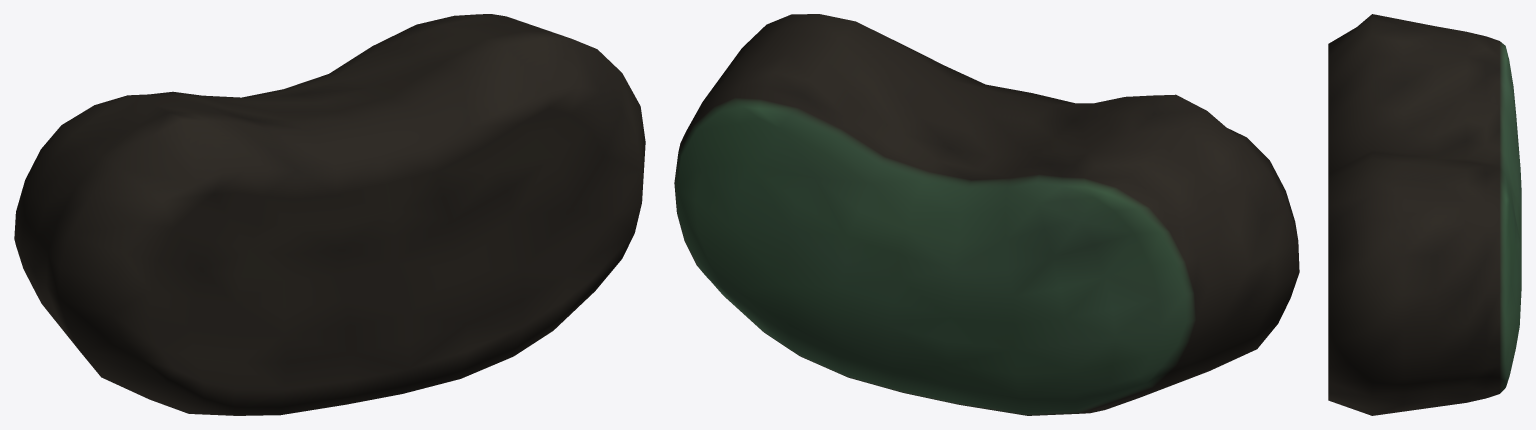
Rendered from GreenHillMedium.005.glb.
The picture shows the model from 3 angles, left to right: view 1: azimuth 30°, elevation 25°; view 2: azimuth 150°, elevation 25°; view 3: azimuth 270°, elevation 25°; orthographic projection. The views are drawn at different scales.
Visible parts, largest first — view 1: GreenHillMedium.005; view 2: GreenHillMedium.005; view 3: GreenHillMedium.005.
Boxes of the visible parts, x1=… form: GreenHillMedium.005: x1=14, y1=14, x2=645, y2=415; GreenHillMedium.005: x1=674, y1=14, x2=1299, y2=415; GreenHillMedium.005: x1=1328, y1=14, x2=1521, y2=415.
Bounding box in the file's own units: 5187 × 2692 × 1723.
